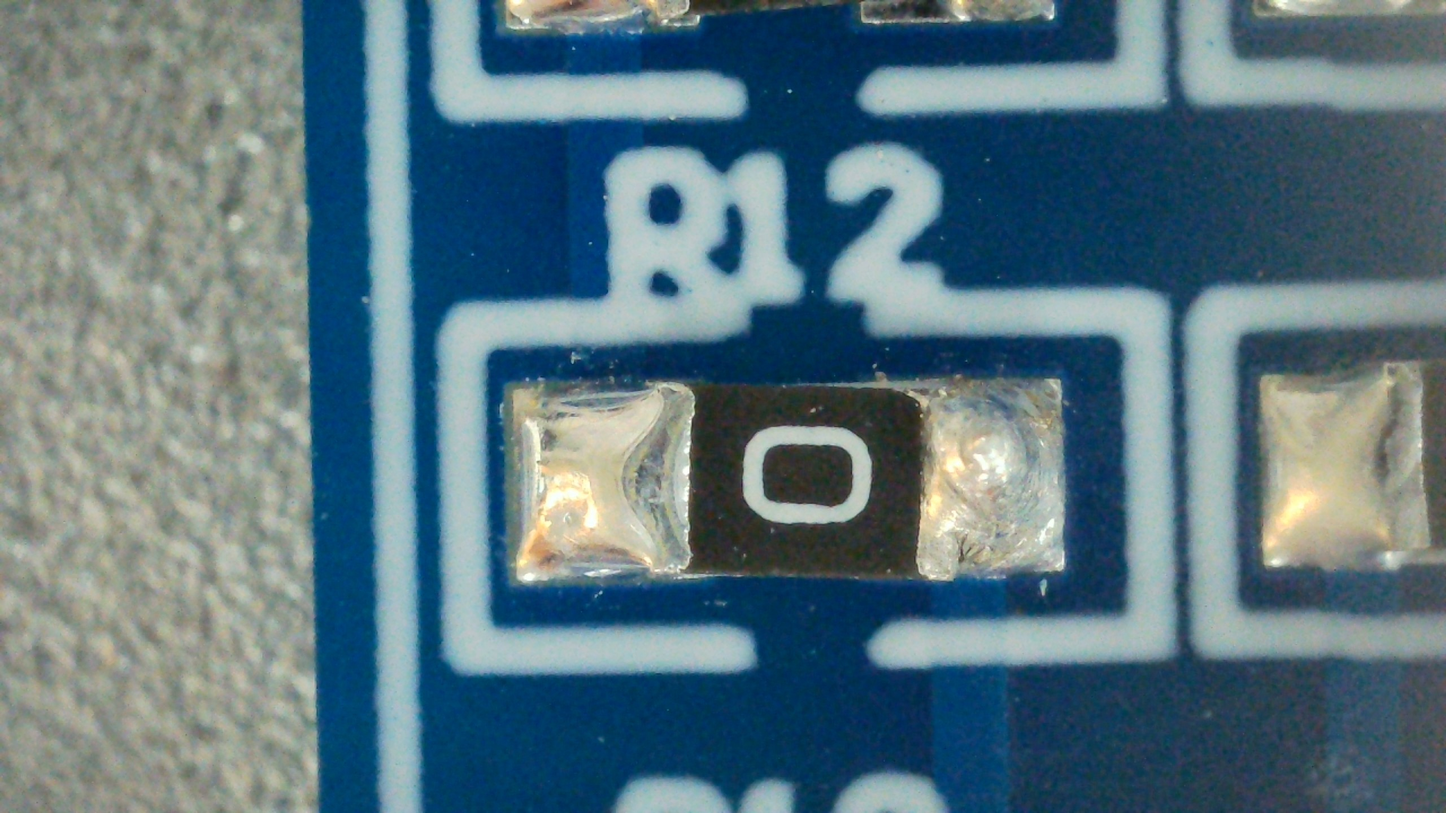OK: (518, 378, 1065, 585)
